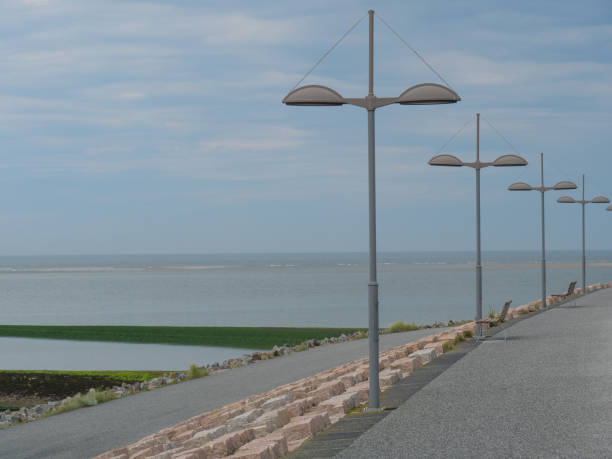light_pole: (365, 7, 385, 406)
